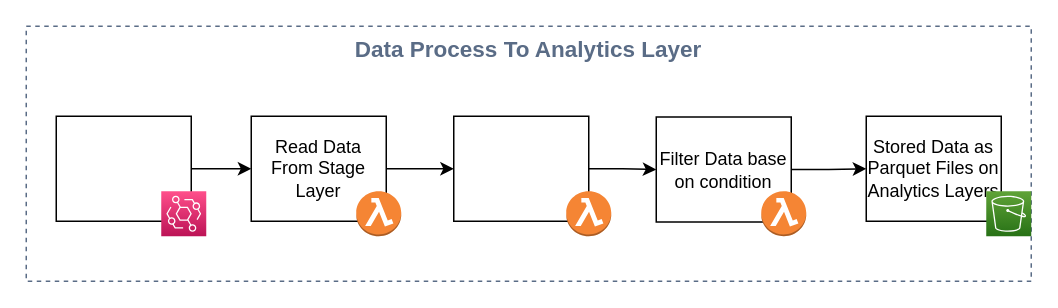
This 1058x308 diagram has some shape labels left out. The shapes that lost their labels are listed below. From the top down, each one's box as (x1, y1, x2, y2) in pixels, then its label:
(55, 115, 191, 221): Start Process based on condition
(452, 115, 589, 221): Add Custom Columns
